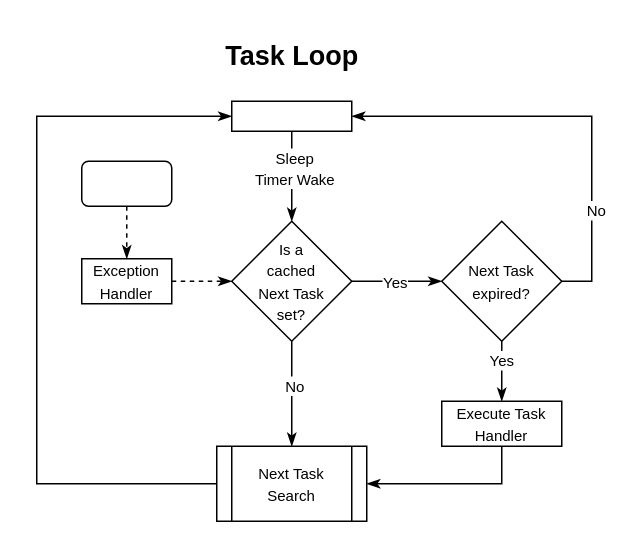
Some shapes in this 632 by 548 pixel diagram are drawn without their labels. The shapes that lost their labels are listed below. From the top down, each one's centre as x and y in pixels, then its label:
the point at 291,115: Sleep
the point at 126,183: Exception Event
